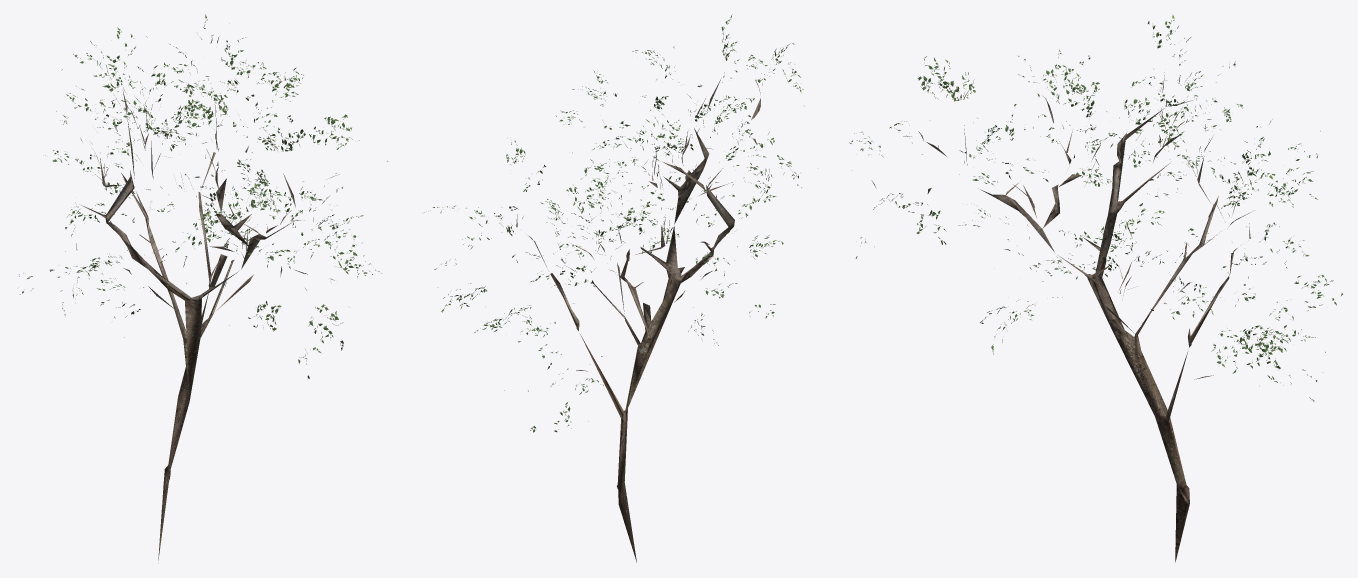
The model's file is tree-small-02-riverbank.glb.
3 views of the same model, side by side, from view 1: azimuth 30°, elevation 25°; view 2: azimuth 150°, elevation 25°; view 3: azimuth 270°, elevation 25° (orthographic). The views are drawn at different scales.
Visible parts, largest first — view 1: tree_small_02_riverbank; view 2: tree_small_02_riverbank; view 3: tree_small_02_riverbank.
Boxes of the visible parts, x1,y1,x2,y2 form: tree_small_02_riverbank: (19, 14, 387, 560); tree_small_02_riverbank: (424, 14, 804, 562); tree_small_02_riverbank: (849, 14, 1342, 562).
Size of the model in its own units: 2.82 by 4.54 by 3.93.
3 materials, 3 textured.
